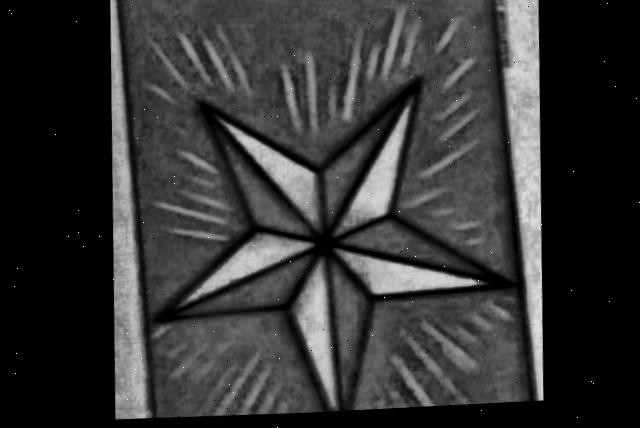La Estrella: (117, 0, 527, 419)
